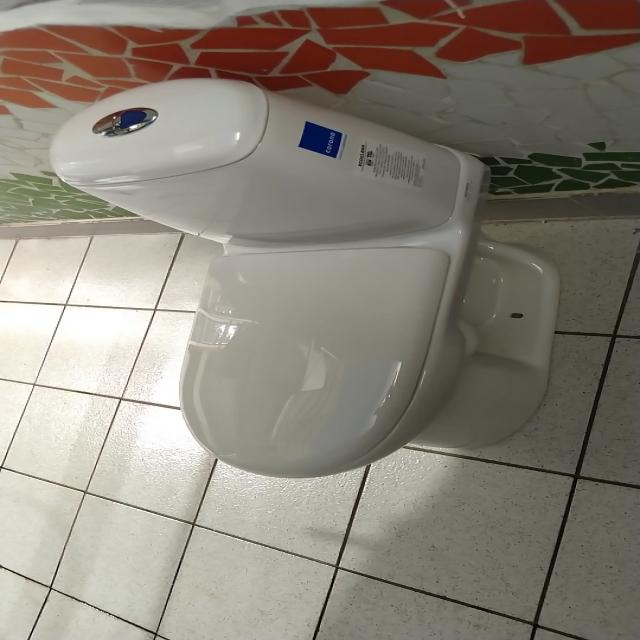toilet: (47, 77, 560, 479)
